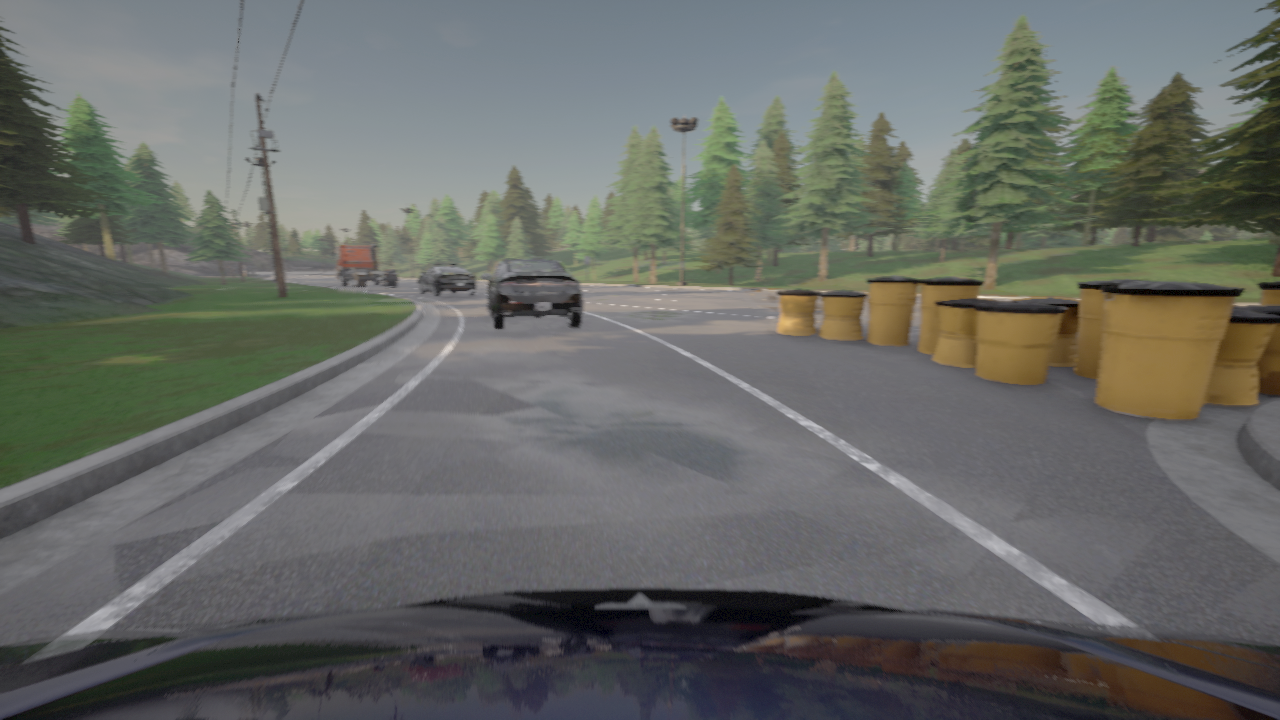cyclist: (0, 588, 1279, 719), (481, 258, 582, 329), (332, 244, 397, 287), (418, 263, 476, 296)
